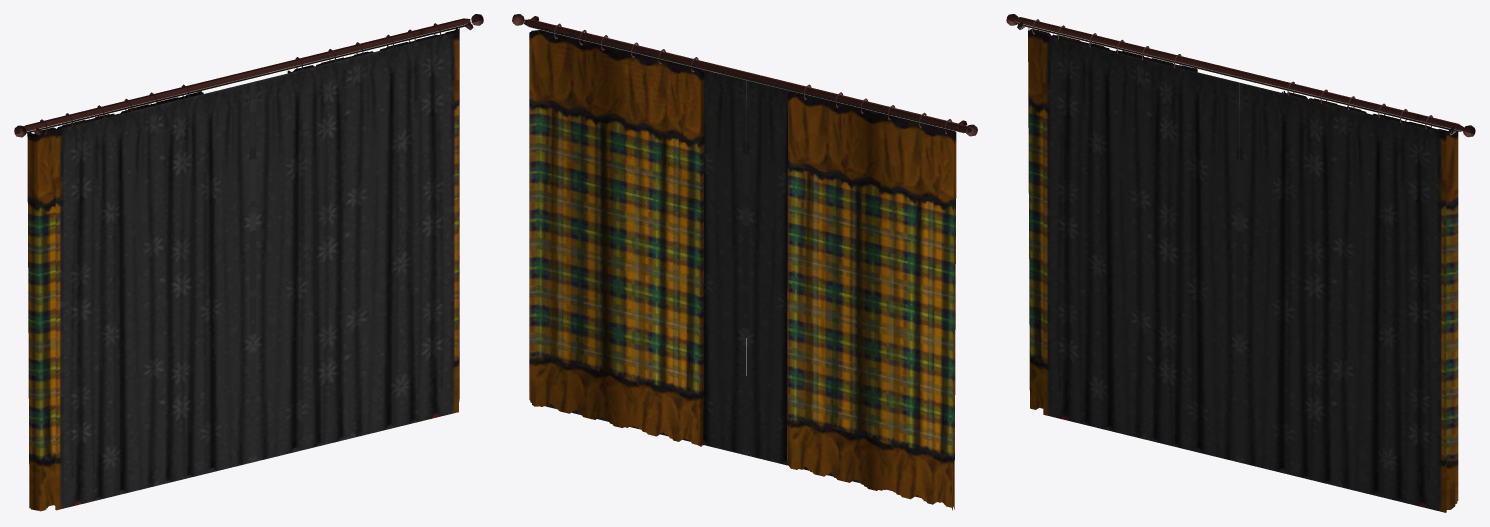
File: furni_0200330_03.FBX
The picture shows the model from 3 angles, left to right: view 1: azimuth 30°, elevation 25°; view 2: azimuth 150°, elevation 25°; view 3: azimuth 330°, elevation 25°; orthographic projection.
Visible parts, largest first — view 1: furni_0200330_03; view 2: furni_0200330_03; view 3: furni_0200330_03.
Boxes of the visible parts, x1,y1,x2,y2 form: furni_0200330_03: (14, 14, 483, 511); furni_0200330_03: (512, 14, 977, 510); furni_0200330_03: (1006, 14, 1475, 512).
Size of the model in its own units: 353 by 282 by 14.17.
Materials: 2 (2 with a texture image).
